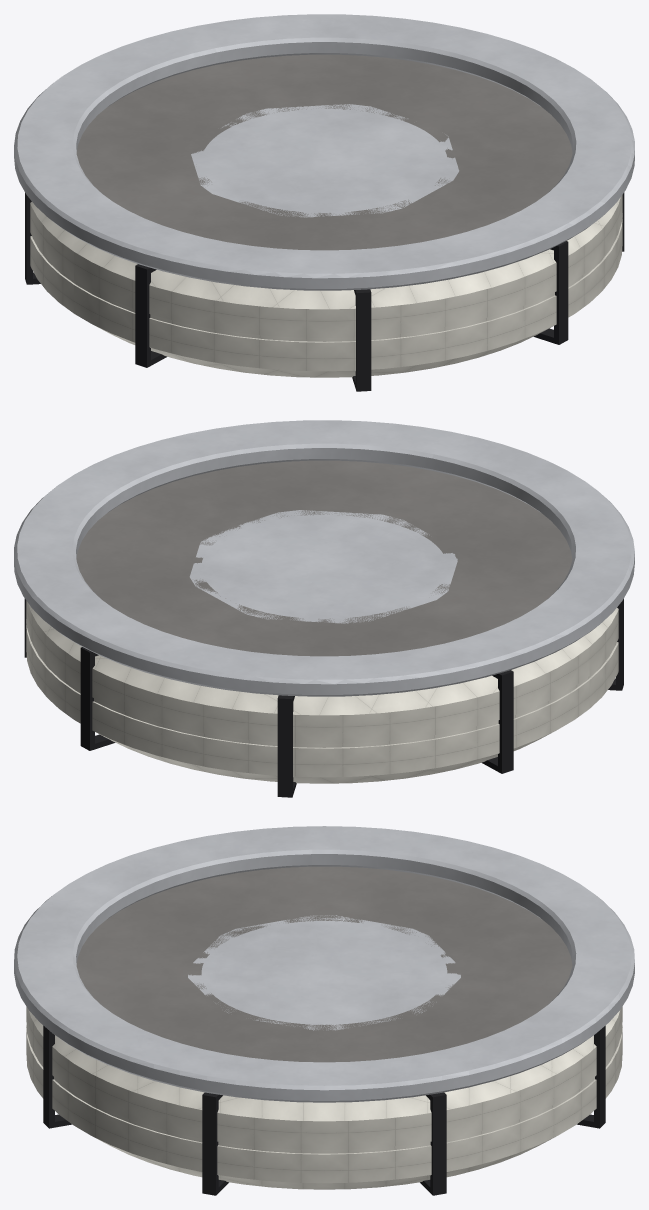
The model's file is ax_cmd_16_hiad_l.glb.
3 views of the same model, one above another, from view 1: azimuth 30°, elevation 25°; view 2: azimuth 150°, elevation 25°; view 3: azimuth 270°, elevation 25° (orthographic).
Visible parts, largest first — view 1: interface_ring, payload_deck, stowed_pack, centre_body, pack_straps; view 2: interface_ring, payload_deck, stowed_pack, centre_body, pack_straps; view 3: interface_ring, payload_deck, stowed_pack, centre_body, pack_straps.
Part boxes in pixels (box(x1,y1,x2,y2)): interface_ring: box(14, 14, 634, 290); payload_deck: box(76, 54, 572, 250); stowed_pack: box(30, 195, 622, 377); centre_body: box(191, 104, 459, 217); pack_straps: box(25, 192, 624, 391); interface_ring: box(14, 420, 634, 696); payload_deck: box(76, 460, 572, 656); stowed_pack: box(26, 601, 618, 783); centre_body: box(189, 510, 457, 623); pack_straps: box(24, 598, 623, 797); interface_ring: box(14, 826, 634, 1102); payload_deck: box(76, 866, 572, 1062); stowed_pack: box(26, 1006, 622, 1189); centre_body: box(188, 915, 460, 1030); pack_straps: box(43, 1025, 605, 1195).
Size of the model in its own units: 3.75 by 0.93 by 3.75.
5 materials, 4 textured.
